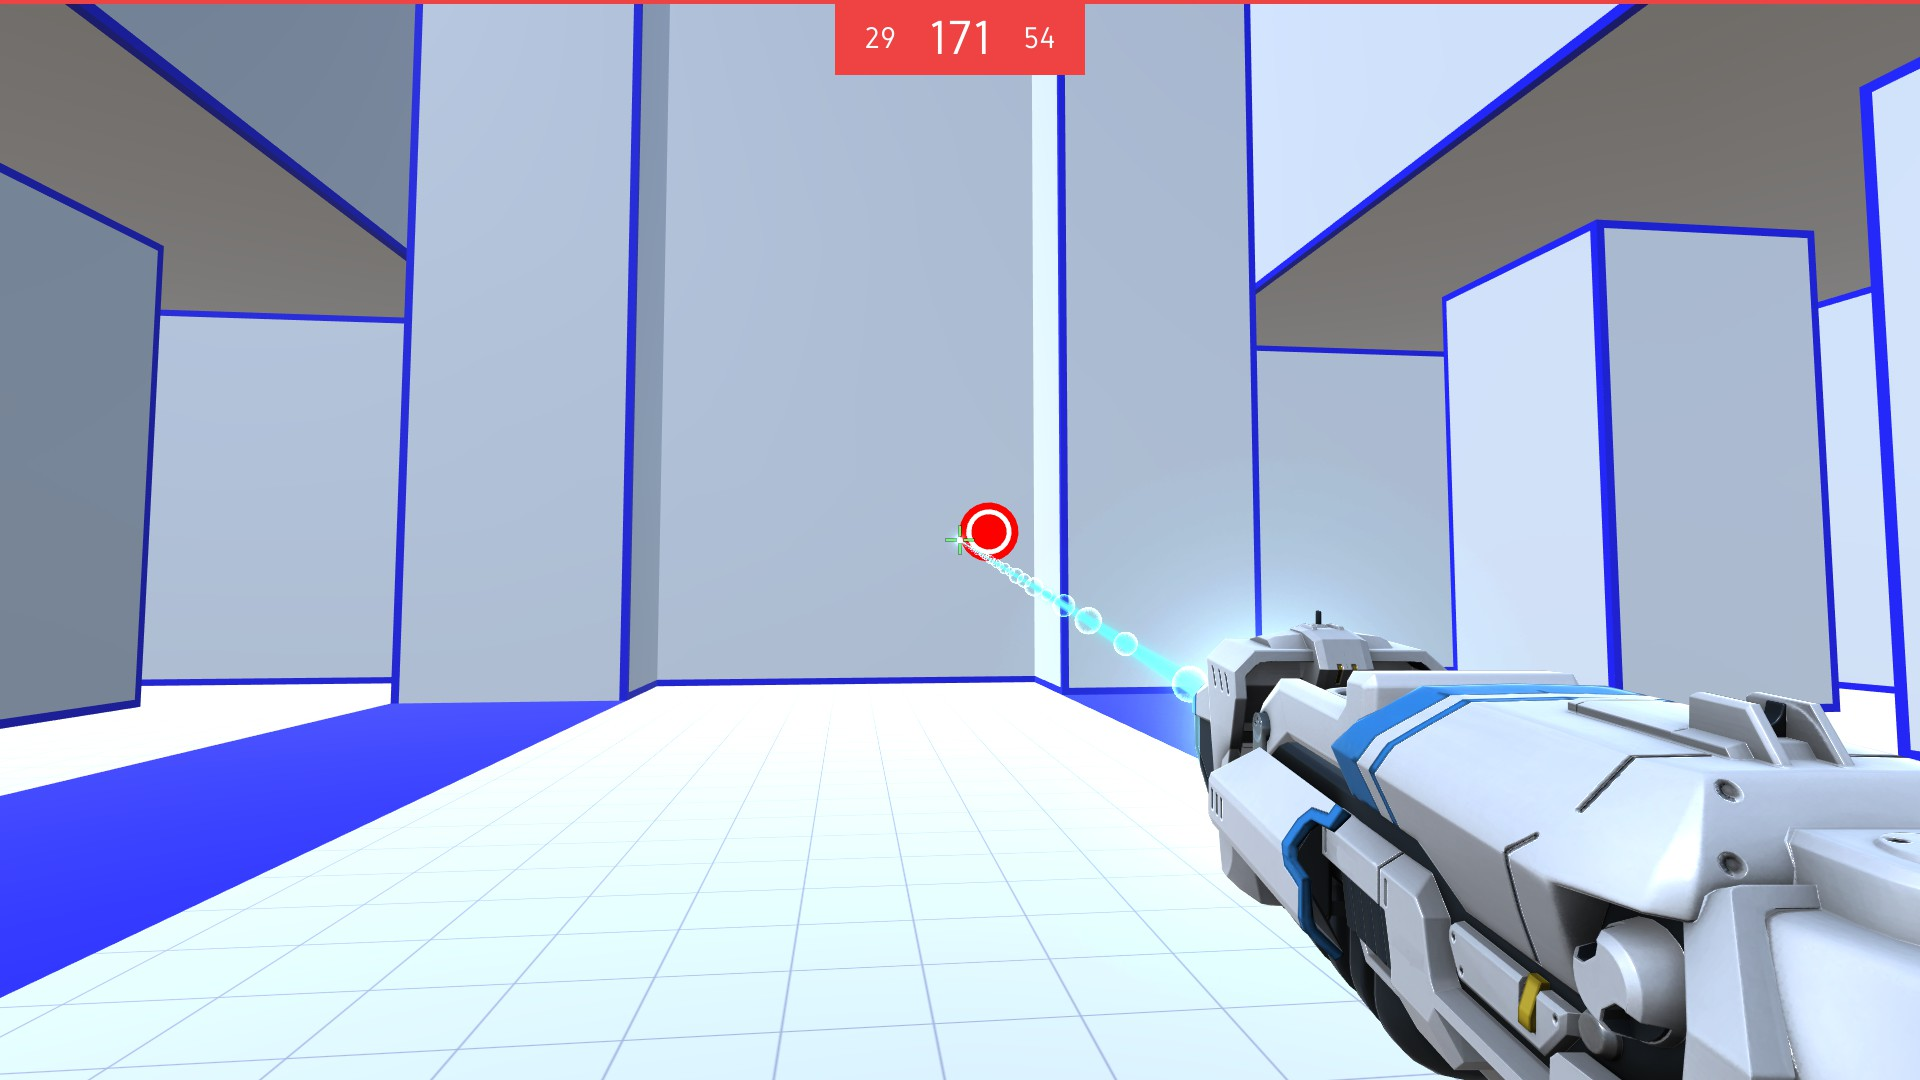target: (957, 502, 1022, 560)
